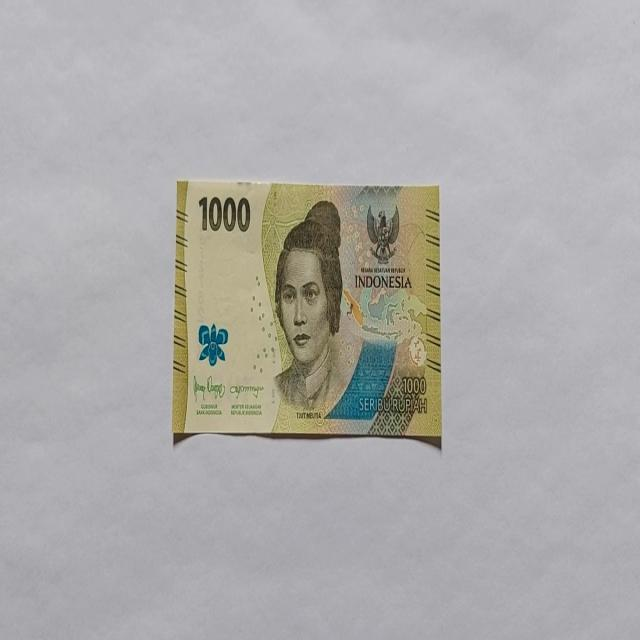seribu rupiah kertas: (172, 178, 442, 444)
